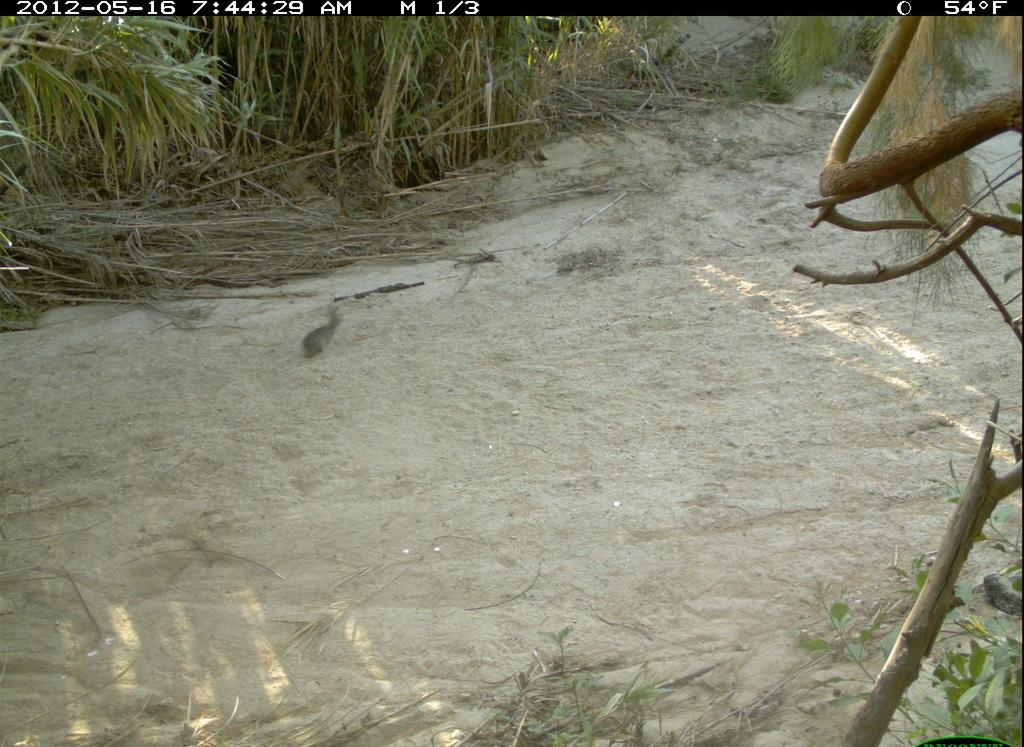rabbit: (291, 303, 355, 367)
